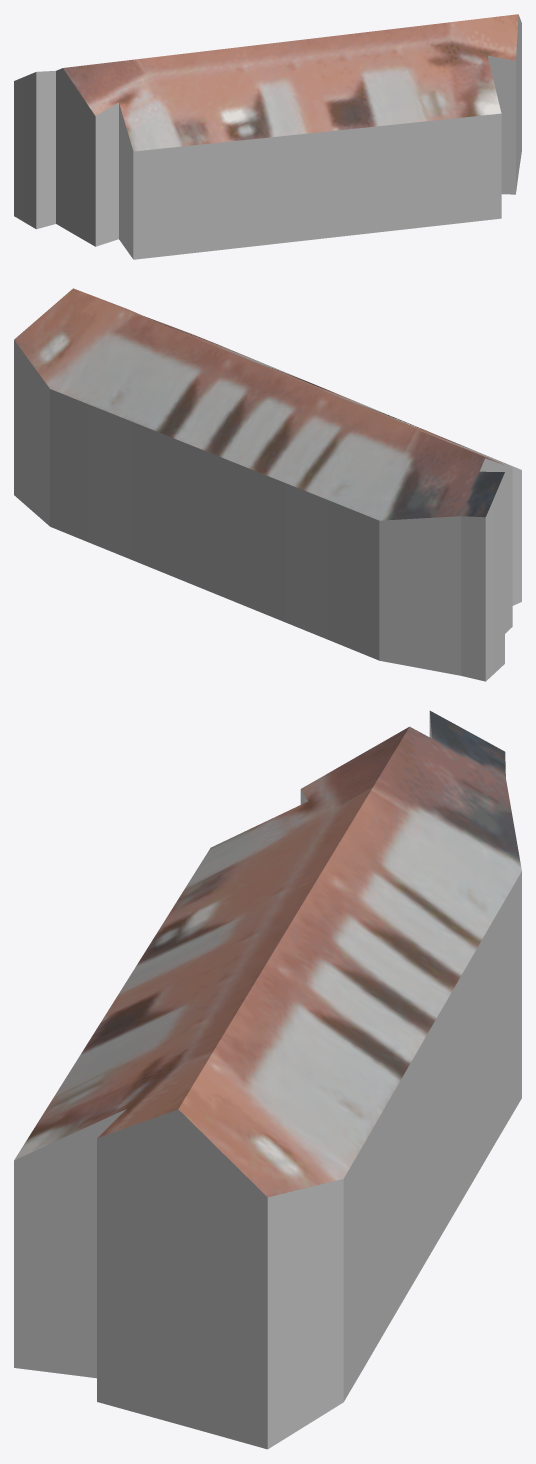
The model's file is DEBW_0010007Tvlt.gltf.
3 renders of one model, top to bottom at view 1: azimuth 30°, elevation 25°; view 2: azimuth 150°, elevation 25°; view 3: azimuth 270°, elevation 25°, orthographic. The views are drawn at different scales.
Visible parts, largest first — view 1: Z_UP; view 2: Z_UP; view 3: Z_UP.
Boxes of the visible parts, x1=… form: Z_UP: x1=14, y1=14, x2=521, y2=259; Z_UP: x1=14, y1=288, x2=521, y2=681; Z_UP: x1=14, y1=710, x2=521, y2=1449.
Bounding box in the file's own units: 40.74 × 13.89 × 20.28.
2 materials, 1 textured.
